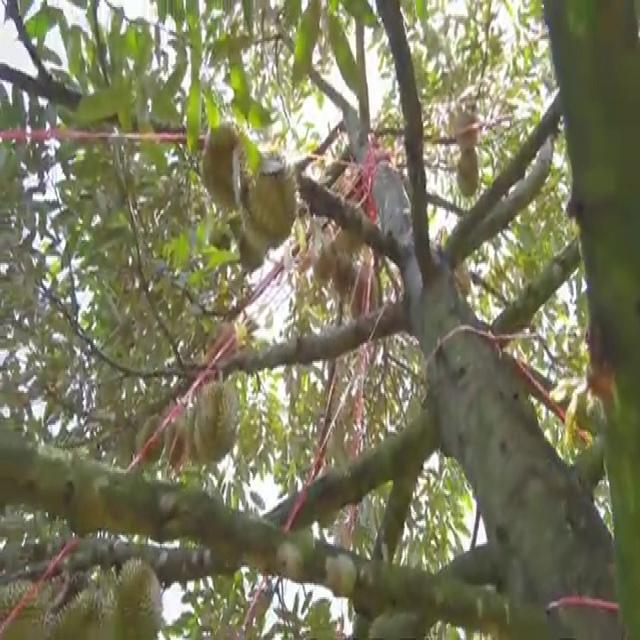durian: (241, 152, 300, 250), (197, 117, 252, 210), (109, 550, 166, 638), (192, 370, 240, 470), (46, 576, 111, 638), (1, 571, 55, 638), (350, 258, 382, 324), (455, 144, 483, 206), (139, 408, 167, 462), (165, 416, 190, 474), (312, 236, 338, 290), (332, 256, 358, 303)
